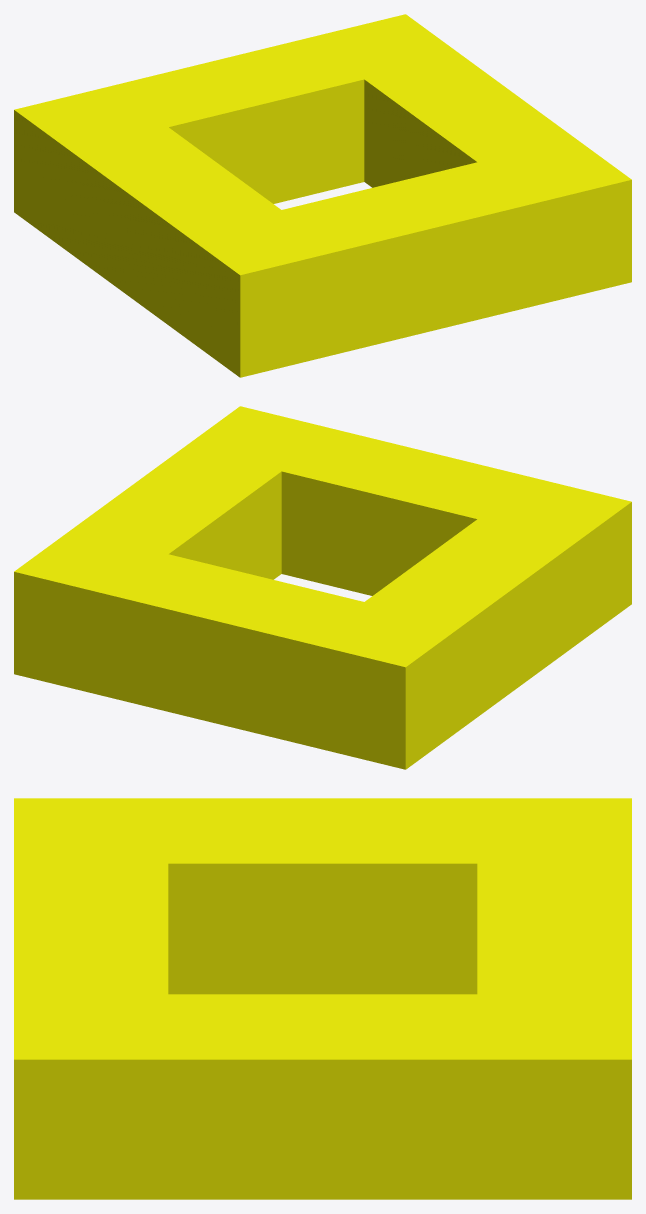
Rendered from kaykit-primitive-floor-hole.glb.
The picture shows the model from 3 angles, top to bottom: view 1: azimuth 30°, elevation 25°; view 2: azimuth 150°, elevation 25°; view 3: azimuth 270°, elevation 25°; orthographic projection. The views are drawn at different scales.
Visible parts, largest first — view 1: Primitive_Floor_Hole; view 2: Primitive_Floor_Hole; view 3: Primitive_Floor_Hole.
Part boxes in pixels (box(x1,y1,x2,y2)): Primitive_Floor_Hole: box(14, 14, 631, 377); Primitive_Floor_Hole: box(14, 406, 631, 769); Primitive_Floor_Hole: box(14, 798, 631, 1199).
Bounding box in the file's own units: 4 × 1 × 4.
